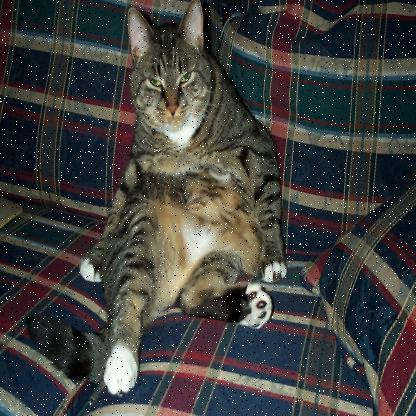cat: (87, 0, 291, 404)
